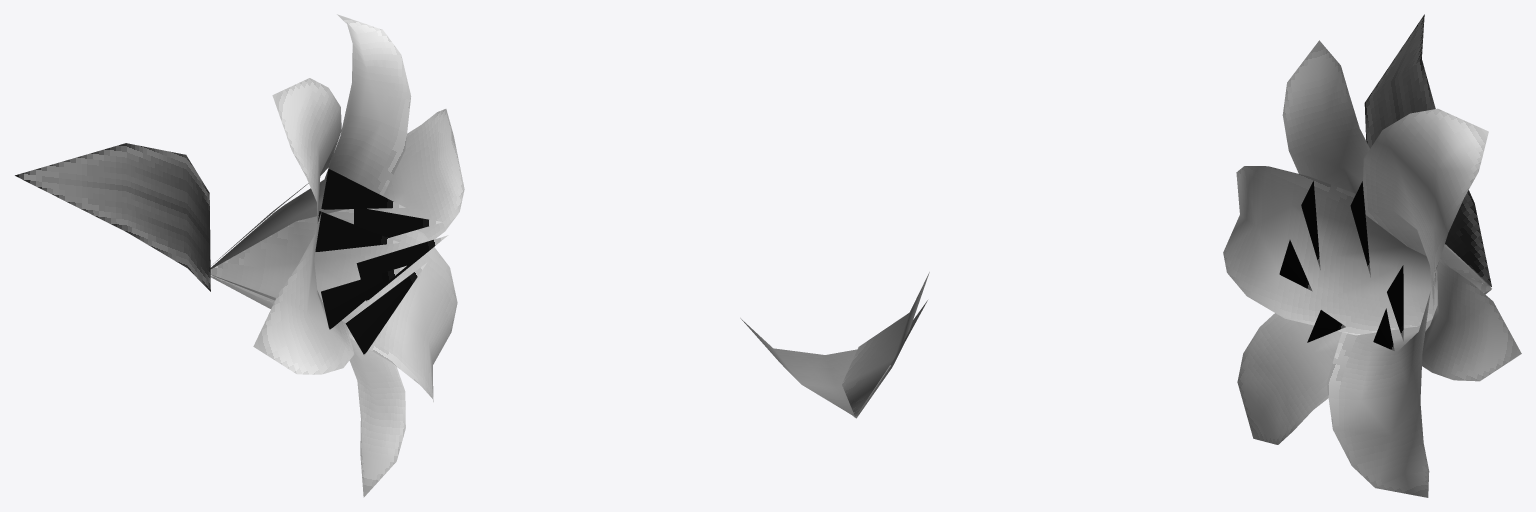
File: CapPltOrnamentRLily.glb
The picture shows the model from 3 angles, left to right: view 1: azimuth 30°, elevation 25°; view 2: azimuth 150°, elevation 25°; view 3: azimuth 270°, elevation 25°; orthographic projection. The views are drawn at different scales.
Parts seen in each view (by area): view 1: Shibe10__mFlowerLily, Leaf01__mFlowerBodyLily; view 2: Shibe10__mFlowerLily; view 3: Shibe10__mFlowerLily, Leaf01__mFlowerBodyLily.
Boxes of the visible parts, box(x1,y1,x2,y2) form: Shibe10__mFlowerLily: box(210, 14, 464, 497); Leaf01__mFlowerBodyLily: box(15, 143, 210, 291); Shibe10__mFlowerLily: box(740, 272, 929, 418); Shibe10__mFlowerLily: box(1223, 40, 1521, 497); Leaf01__mFlowerBodyLily: box(1364, 14, 1491, 286).
Bounding box in the file's own units: 4.18 × 3.18 × 2.32.
Materials: 2 (2 with a texture image).
